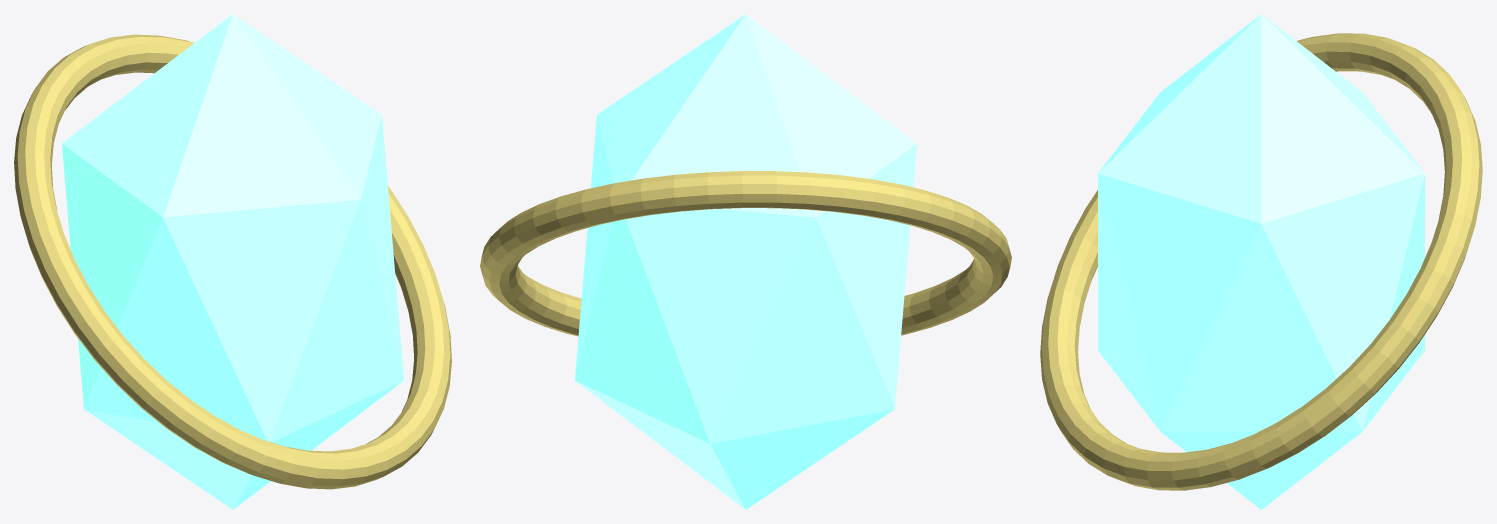
Rendered from power_gem.glb.
3 renders of one model, left to right at view 1: azimuth 30°, elevation 25°; view 2: azimuth 150°, elevation 25°; view 3: azimuth 270°, elevation 25°, orthographic.
Visible parts, largest first — view 1: Icosphere, Torus; view 2: Icosphere, Torus; view 3: Icosphere, Torus.
Part boxes in pixels (left/top/right/bottom): Icosphere: left=62, top=14, right=403, bottom=509; Torus: left=14, top=34, right=451, bottom=489; Icosphere: left=575, top=14, right=916, bottom=509; Torus: left=480, top=171, right=1011, bottom=336; Icosphere: left=1098, top=14, right=1424, bottom=509; Torus: left=1040, top=33, right=1482, bottom=490.
Bounding box in the file's own units: 1.05 × 1.15 × 0.9316.
